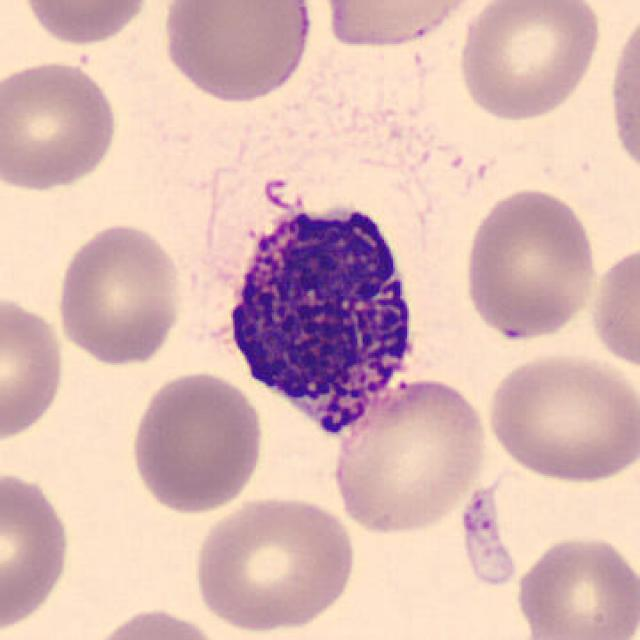Basophil: (198, 184, 438, 452)
RBC: (327, 374, 493, 538), (188, 490, 361, 635), (450, 457, 624, 601), (459, 183, 601, 344), (124, 366, 268, 516), (482, 349, 636, 487), (52, 218, 186, 368), (453, 0, 604, 123), (158, 0, 316, 106), (0, 56, 123, 192), (510, 530, 638, 640), (0, 464, 75, 636), (0, 289, 68, 444), (318, 0, 484, 51), (586, 236, 640, 375), (602, 5, 640, 183), (16, 0, 155, 48), (81, 604, 229, 640)
